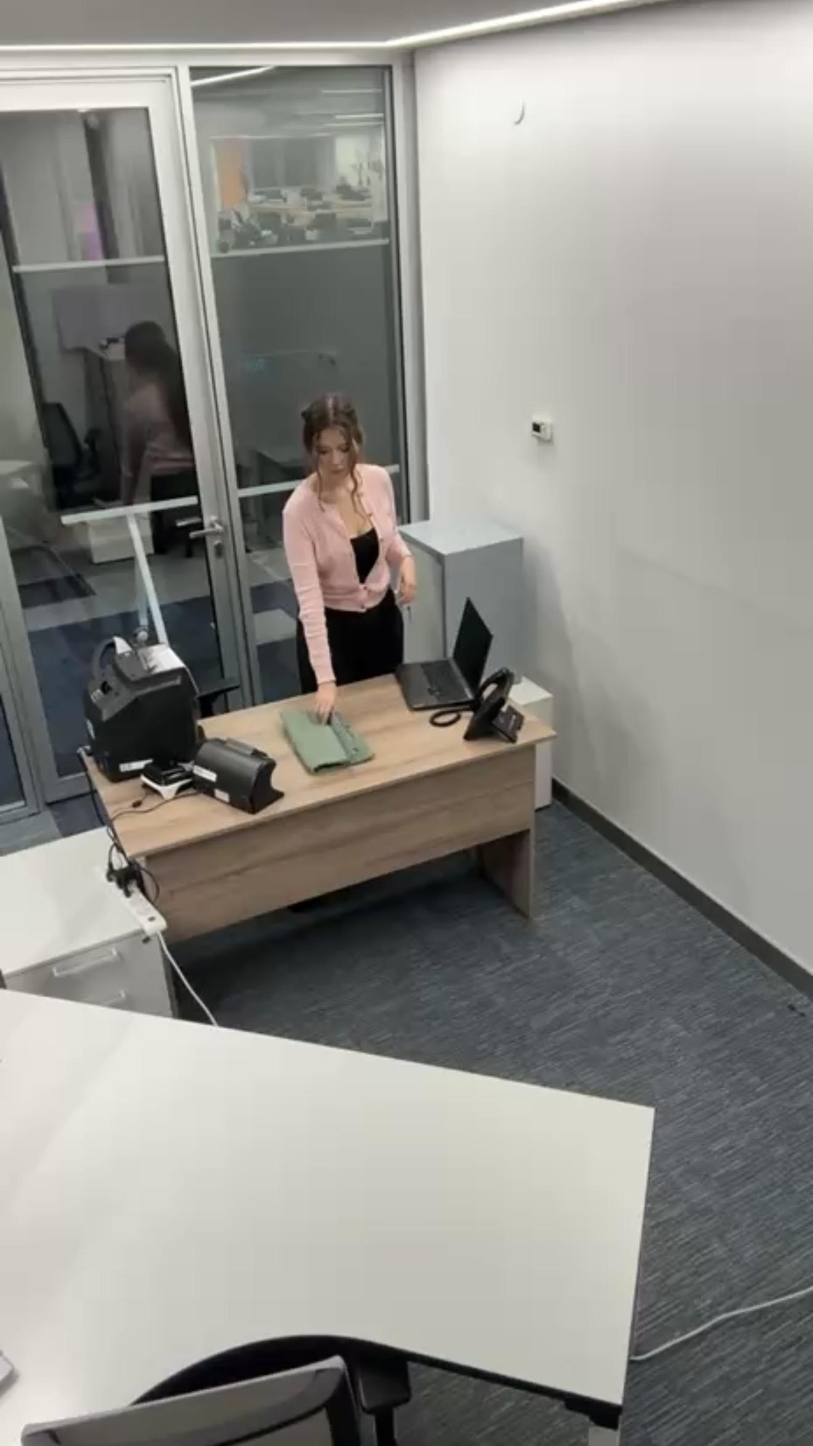cash-in-transit bag: (279, 696, 378, 785)
counter: (84, 628, 199, 776)
uv_lamp: (189, 731, 283, 817)
